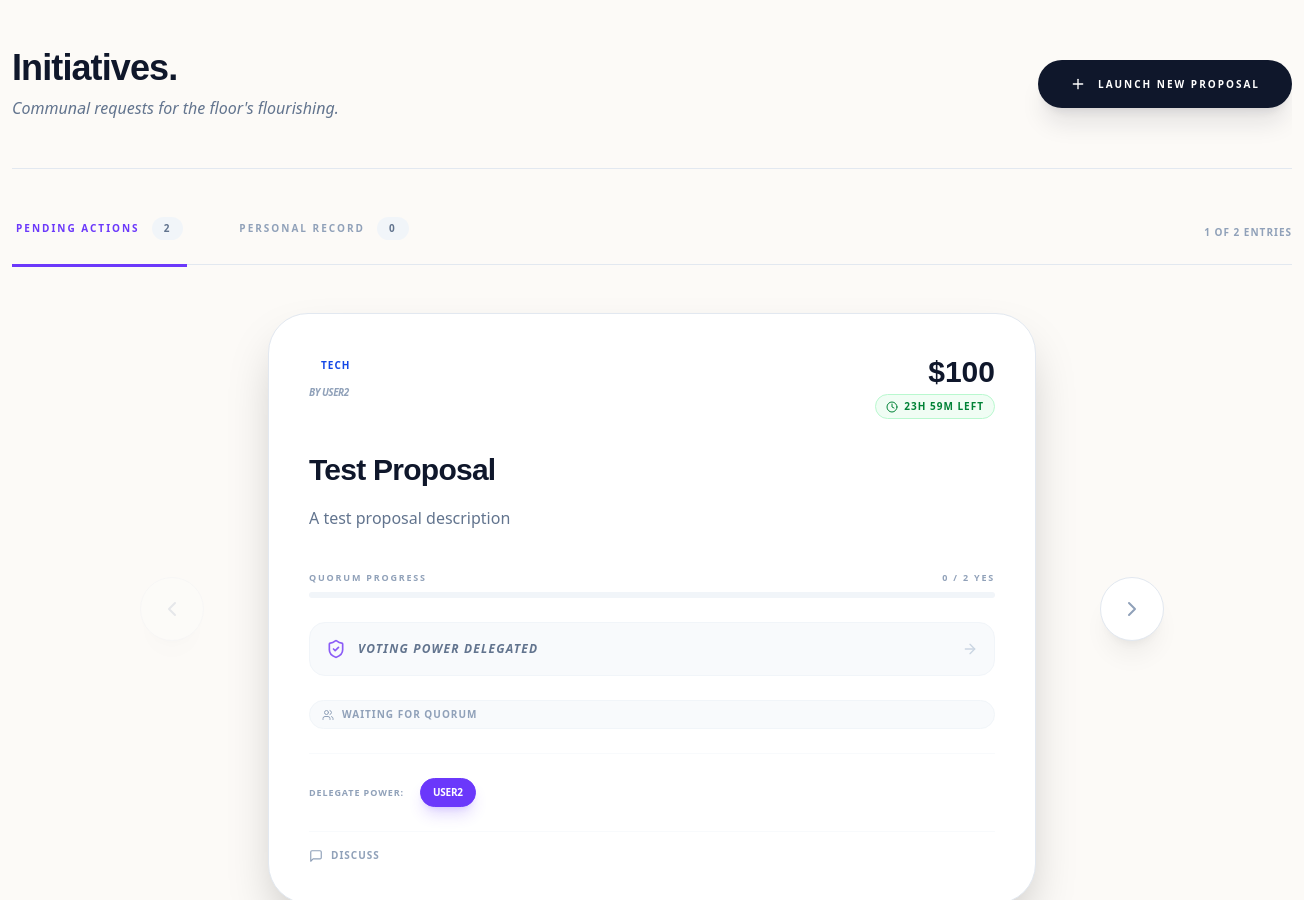
Test: ProposalsList Component — Delegation Rendering › hides buttons only for the specific proposal when per-proposal delegation is set
Expected: the text "Voting power delegated" is shown, left=358, top=641, right=538, bottom=657
# Navigate to prop-2
What coordinates should you click on to do the following:
click the button named "Next proposal"
I would click on:
 (1132, 608)
Its box is left=1100, top=576, right=1164, bottom=640.
(page scrolled)
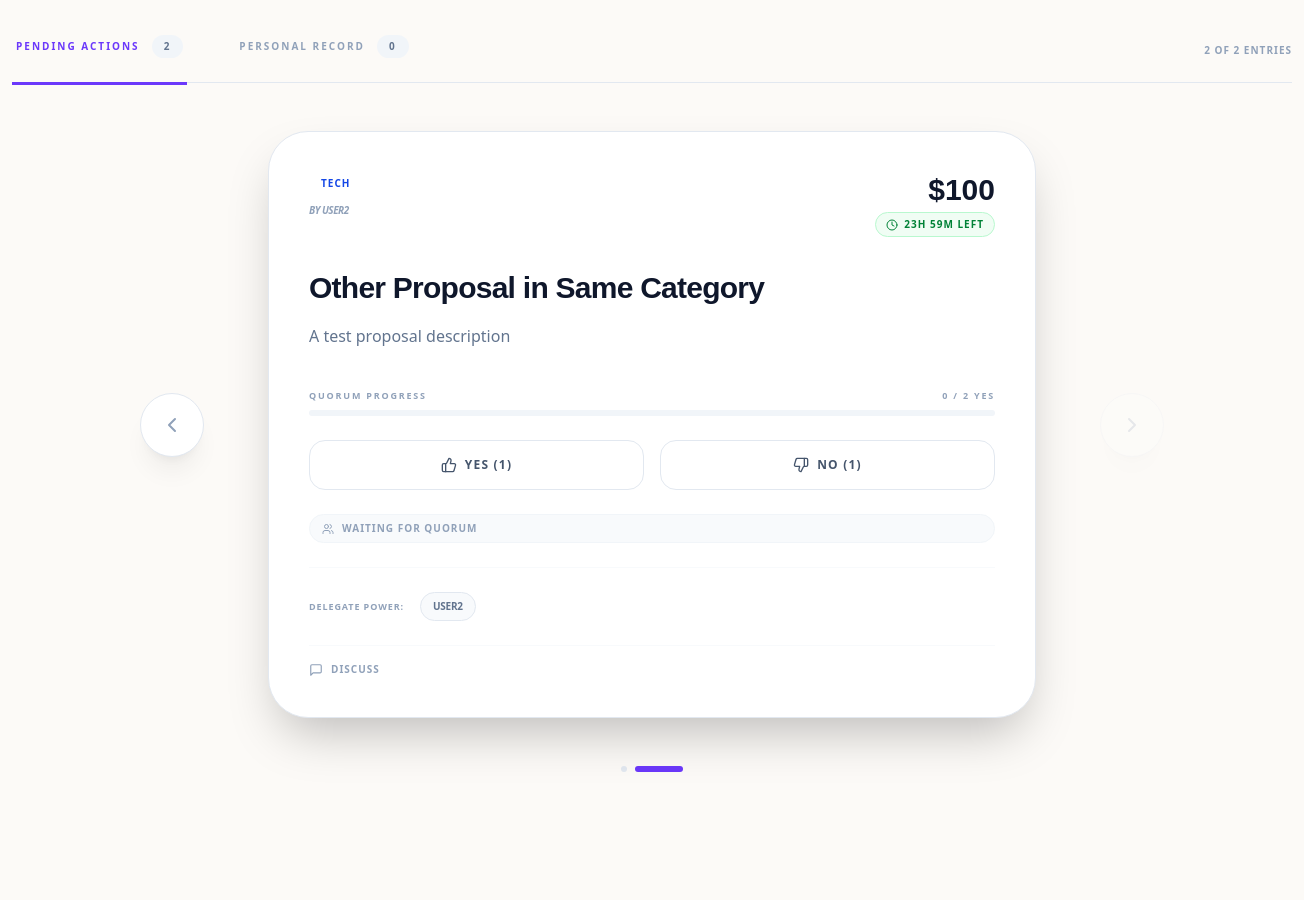
Expected: the button "Yes (1)" is shown, left=309, top=440, right=644, bottom=490
